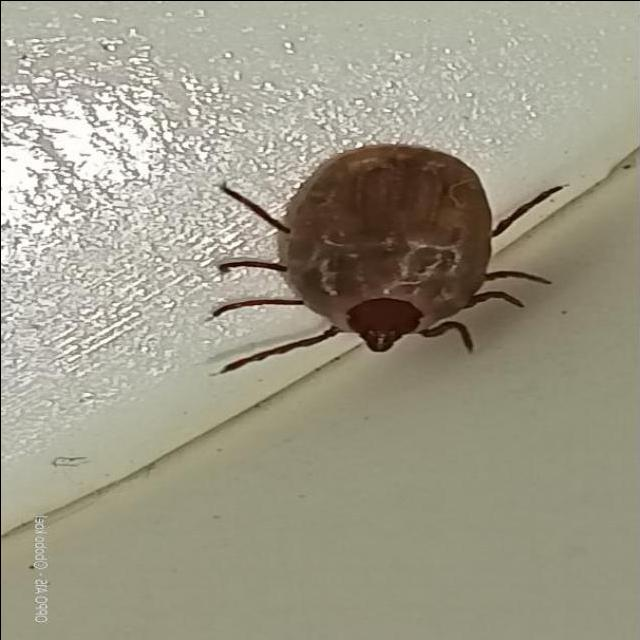Rhipicephalus Sanguineus-F-Fed: (208, 143, 567, 376)
